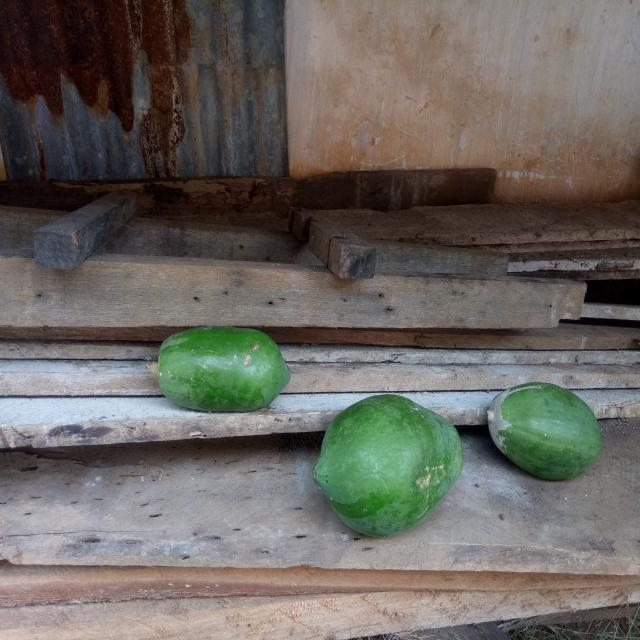Pepaya unrippen: (310, 386, 466, 538), (140, 318, 292, 421), (480, 364, 602, 484)
